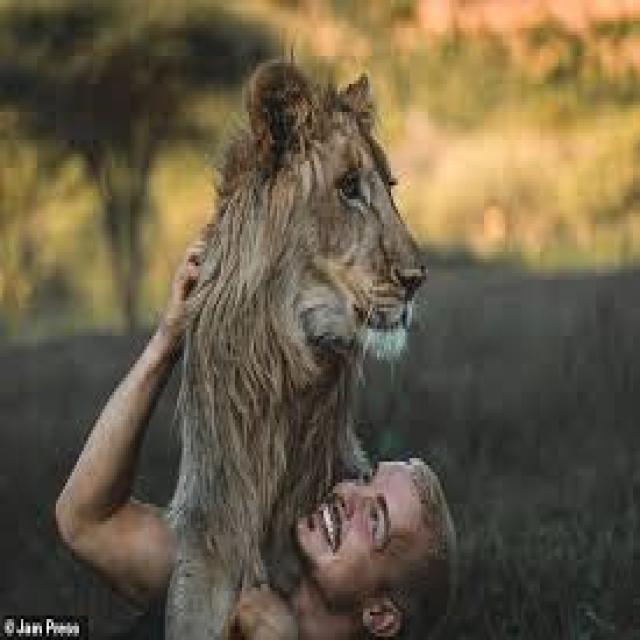Lion: (159, 47, 432, 637)
